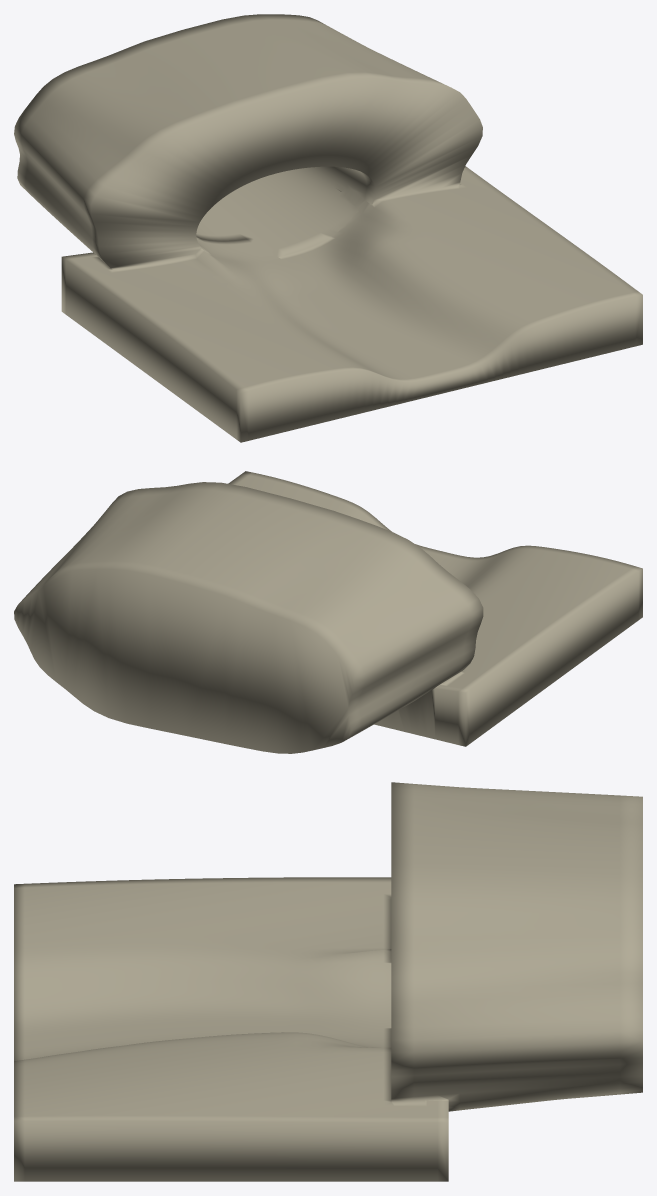
Rendered from karst-spring-mouth.glb.
3 views of the same model, one above another, from view 1: azimuth 30°, elevation 25°; view 2: azimuth 150°, elevation 25°; view 3: azimuth 270°, elevation 25° (orthographic). The views are drawn at different scales.
Parts seen in each view (by area): view 1: continuous-thick-rock-roof-low-spring-cavity-and-wall; view 2: continuous-thick-rock-roof-low-spring-cavity-and-wall; view 3: continuous-thick-rock-roof-low-spring-cavity-and-wall.
Boxes of the visible parts, x1,y1,x2,y2 form: continuous-thick-rock-roof-low-spring-cavity-and-wall: [14, 14, 642, 442]; continuous-thick-rock-roof-low-spring-cavity-and-wall: [14, 471, 642, 753]; continuous-thick-rock-roof-low-spring-cavity-and-wall: [14, 782, 642, 1181].
Bounding box in the file's own units: 3 × 1.32 × 3.35.
